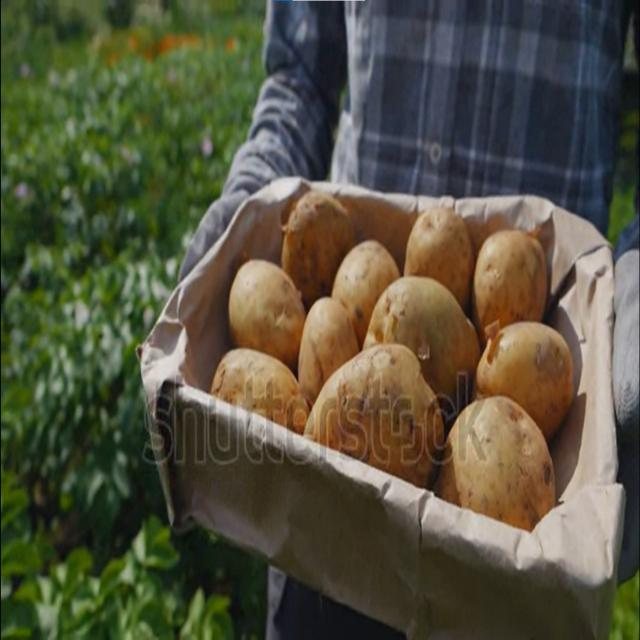potato: (304, 344, 444, 487), (437, 396, 555, 531), (363, 275, 480, 397), (476, 322, 574, 440), (281, 191, 354, 309), (472, 229, 548, 342), (229, 260, 306, 369), (211, 349, 310, 433), (331, 240, 399, 349), (404, 207, 474, 309), (298, 298, 359, 402)
